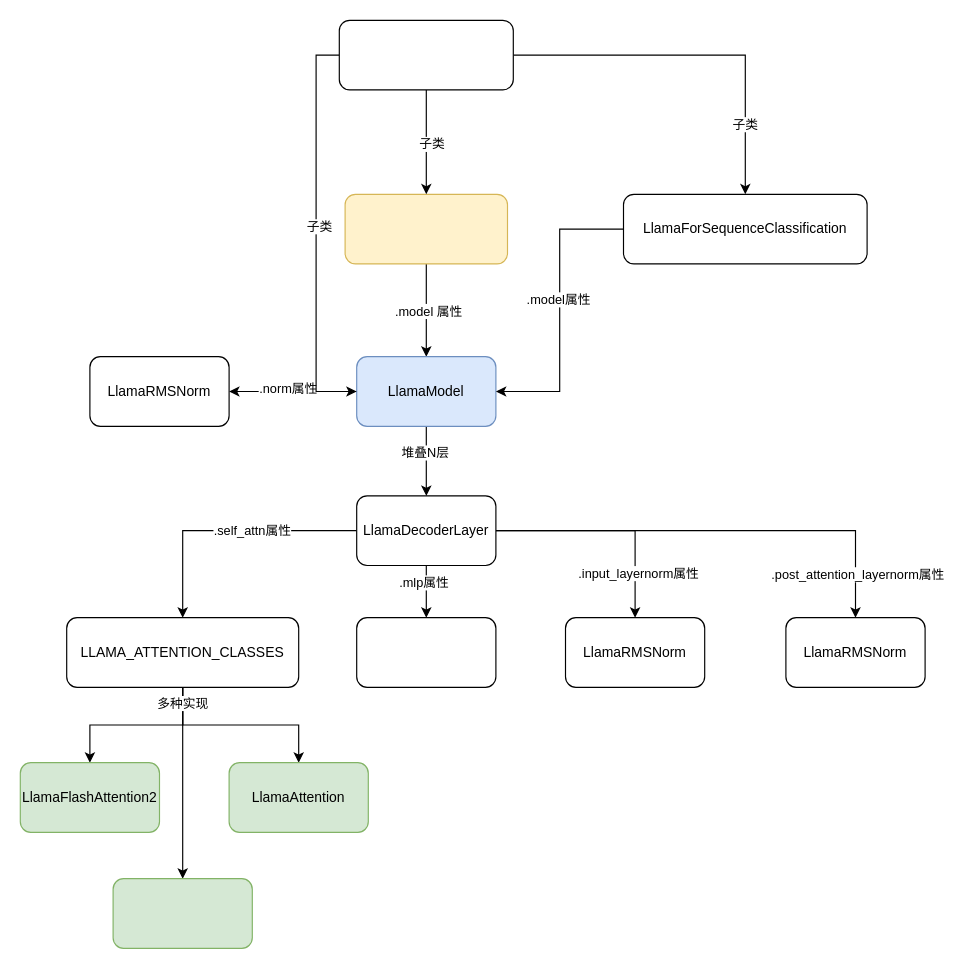
This 964x969 diagram has some shape labels left out. The centre of each missing label's shape, as x and y in pixels:
"LlamaForCausalLM" belongs at (x=425, y=228).
"LlamaMLP" belongs at (x=426, y=652).
"LlamaPreTrainedModel" belongs at (x=425, y=54).
"LlamaSdpaAttention" belongs at (x=182, y=913).
